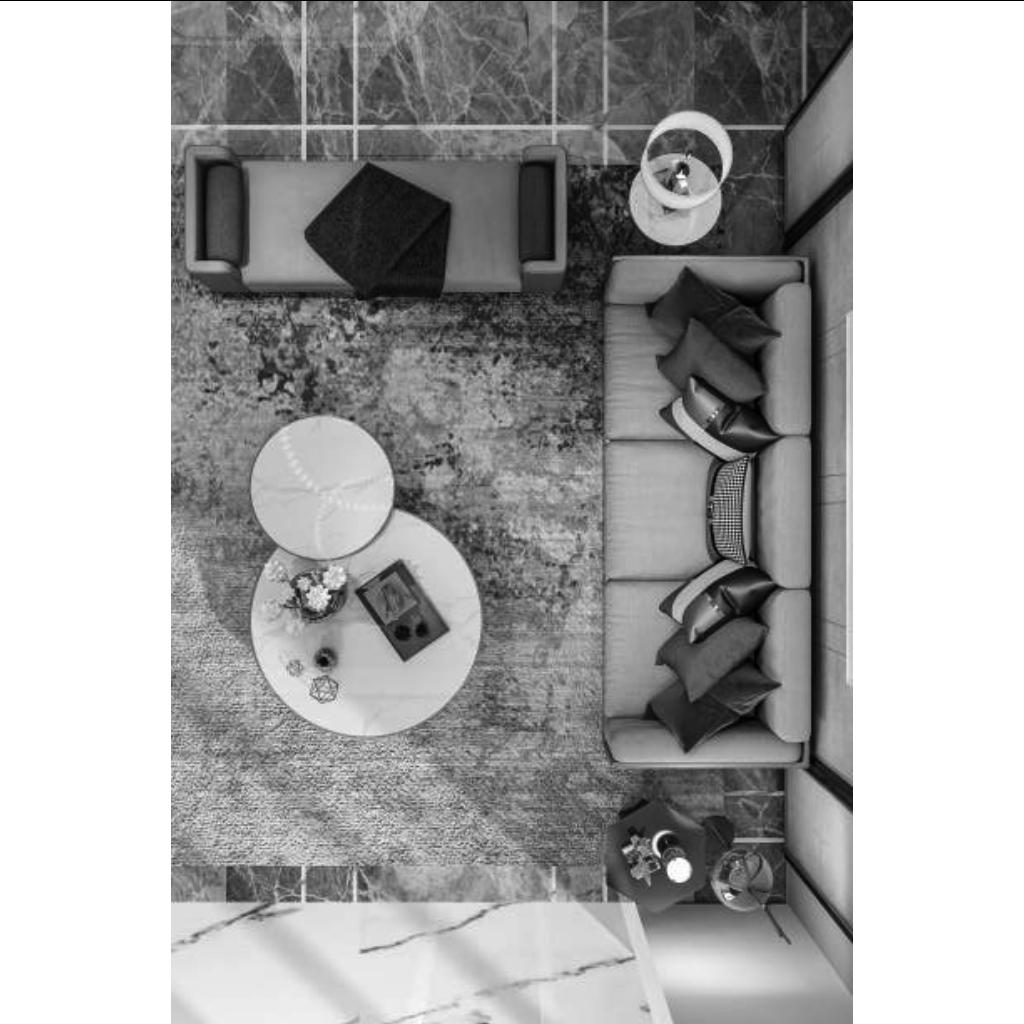bench: (184, 144, 566, 288)
coffee table: (246, 412, 484, 738)
floor lamp: (626, 152, 726, 244), (710, 827, 774, 907)
rug: (172, 148, 730, 864)
side table: (604, 798, 704, 912)
sofa: (602, 250, 812, 770)
wardrobe: (817, 62, 849, 942)
